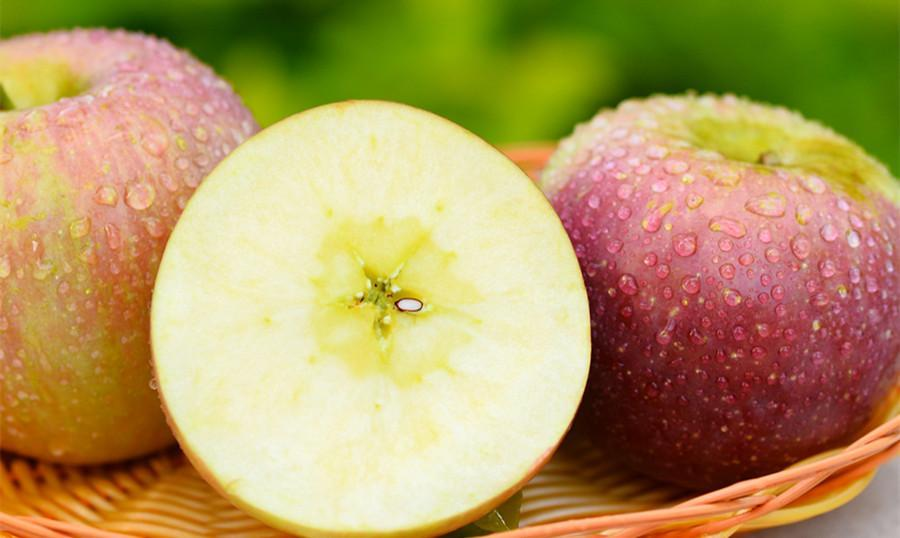apple: (538, 92, 899, 505), (3, 26, 262, 475)
